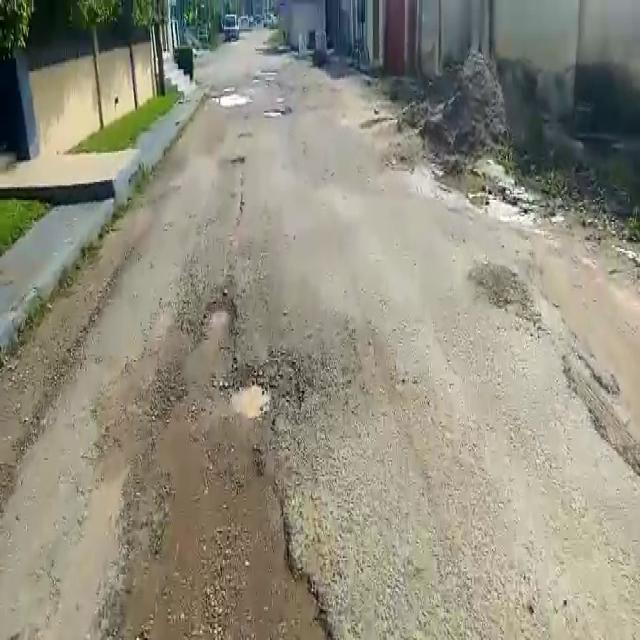pothole: (231, 354, 304, 423), (199, 297, 239, 341)
